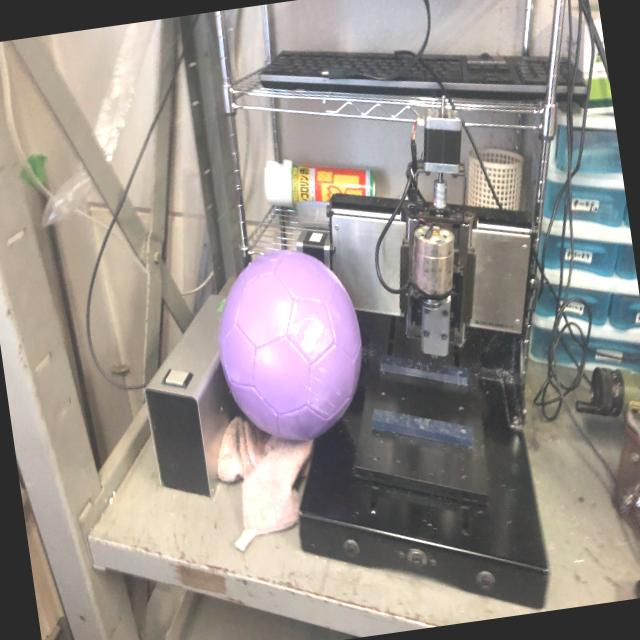purple_ball: (208, 238, 374, 450)
